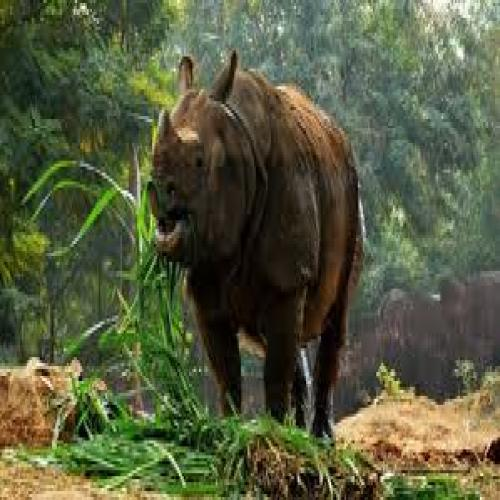rhino-endangered: (145, 51, 363, 446)
